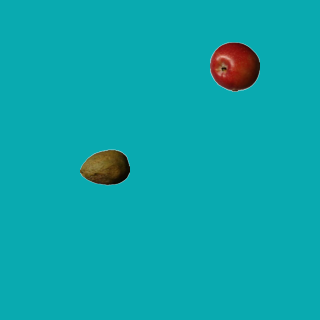Apple Braeburn: (209, 41, 259, 91)
Papaya: (79, 142, 129, 192)
